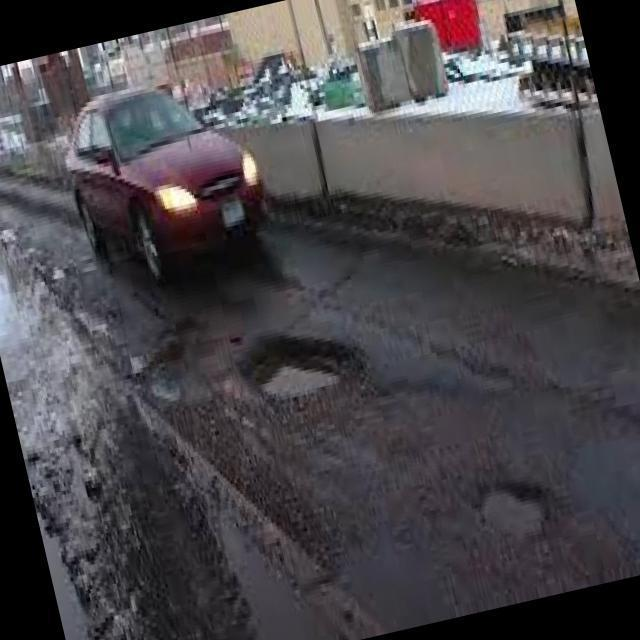Pothole: (479, 486, 595, 572), (237, 335, 349, 405)
